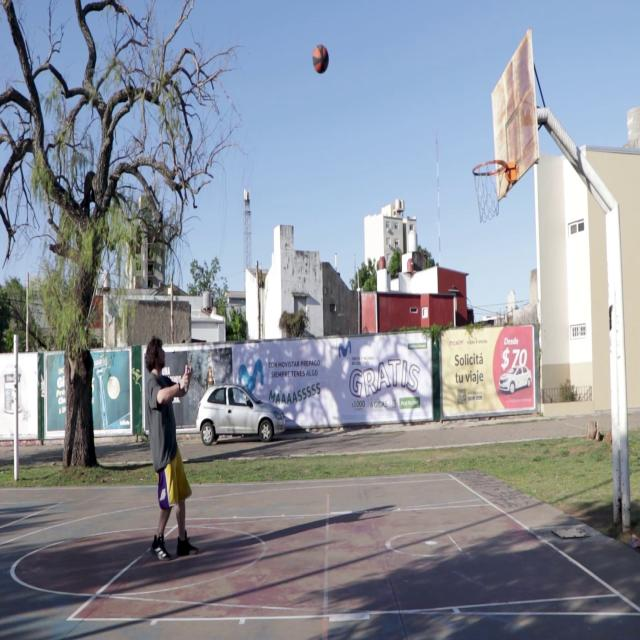ball: (312, 44, 329, 76)
